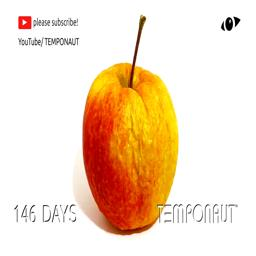Apple Semirotten: (81, 0, 181, 235)
